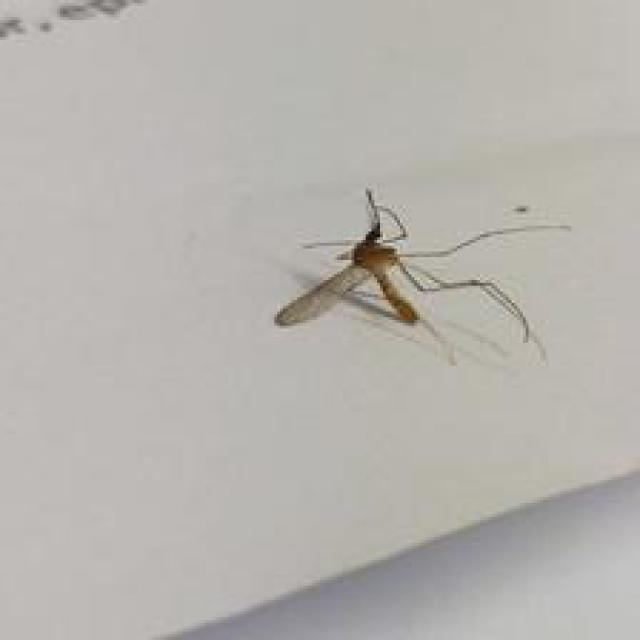Culex: (273, 185, 573, 368)
